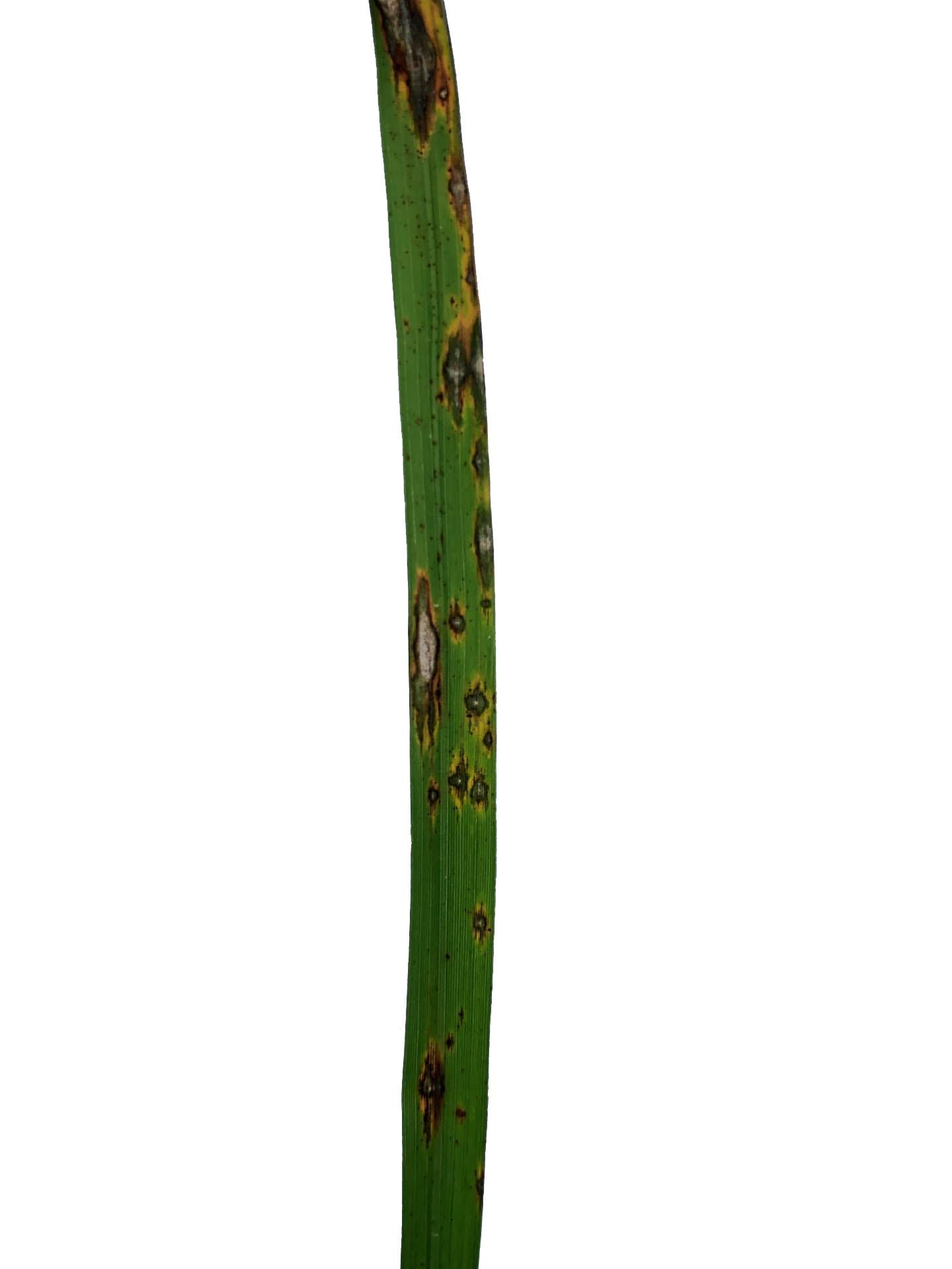Rice blast: (370, 5, 447, 141), (410, 1039, 451, 1141), (417, 557, 436, 761), (442, 149, 474, 240), (440, 325, 466, 416), (460, 302, 481, 413), (472, 507, 492, 607), (470, 906, 491, 951), (465, 686, 488, 716), (470, 432, 483, 480), (431, 787, 449, 817), (449, 607, 469, 634), (453, 771, 471, 800), (475, 767, 489, 804)
